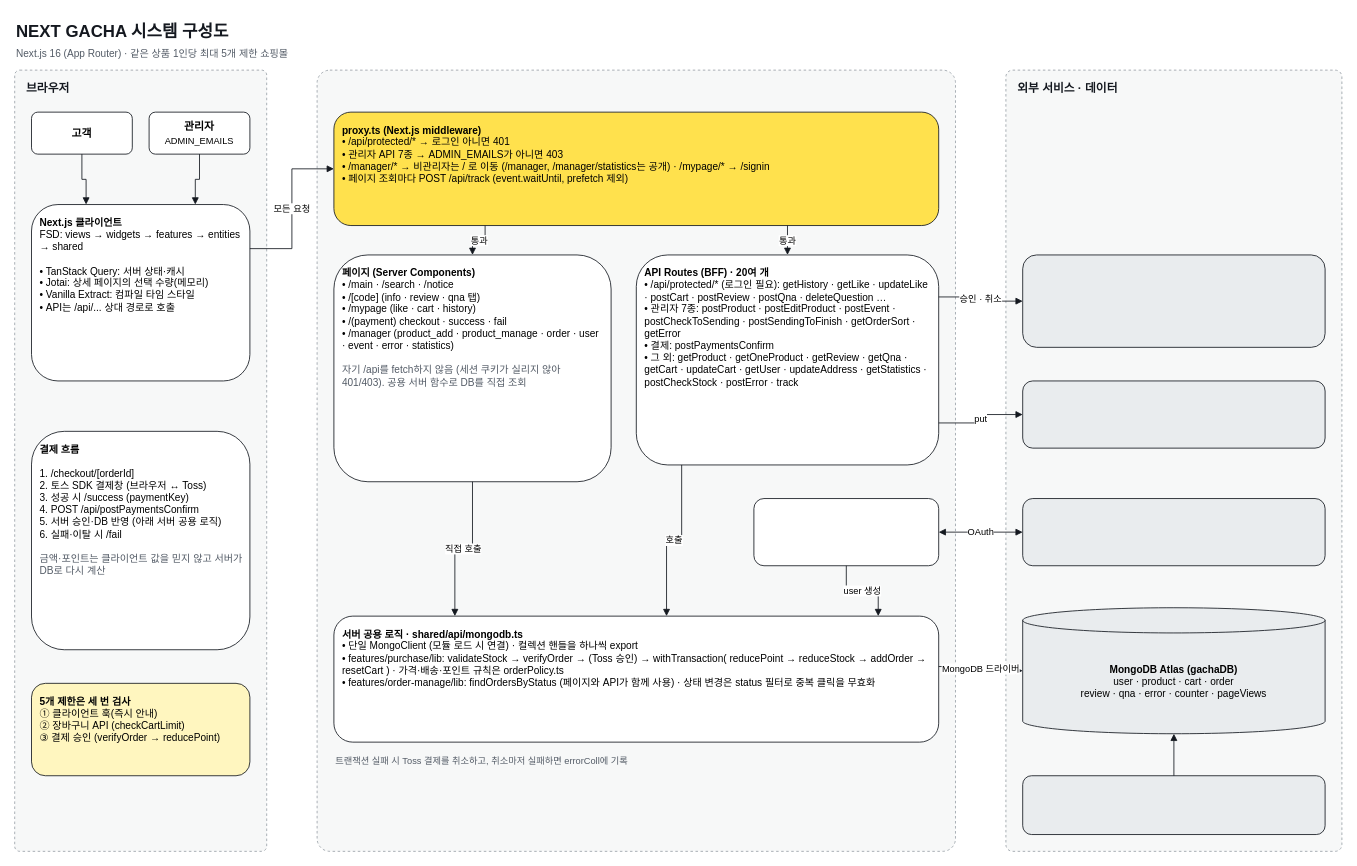
Image size: 1357x866. Some labels were removed from this diagram. Here are the shapes that lost their labels. From the top down, the box of each, then its label:
(1022, 254, 1325, 347): TossPayments • 결제창 (브라우저 SDK) • 서버: 승인 confirm · 취소 cancel • 결제 실패·환불 시 취소
(1022, 380, 1325, 448): Vercel Blob 상품 이미지 images/{번호}.png (postProduct의 put)
(316, 69, 956, 851): Vercel · Next.js 서버
(753, 498, 939, 566): NextAuth v5 (Kakao만) 첫 로그인 시 user 문서 생성 (포인트 0)
(1022, 498, 1325, 566): Kakao OAuth 이메일을 주지 않으면 로그인 거부
(1022, 775, 1325, 835): Atlas Trigger 매월 이벤트 상태 초기화
